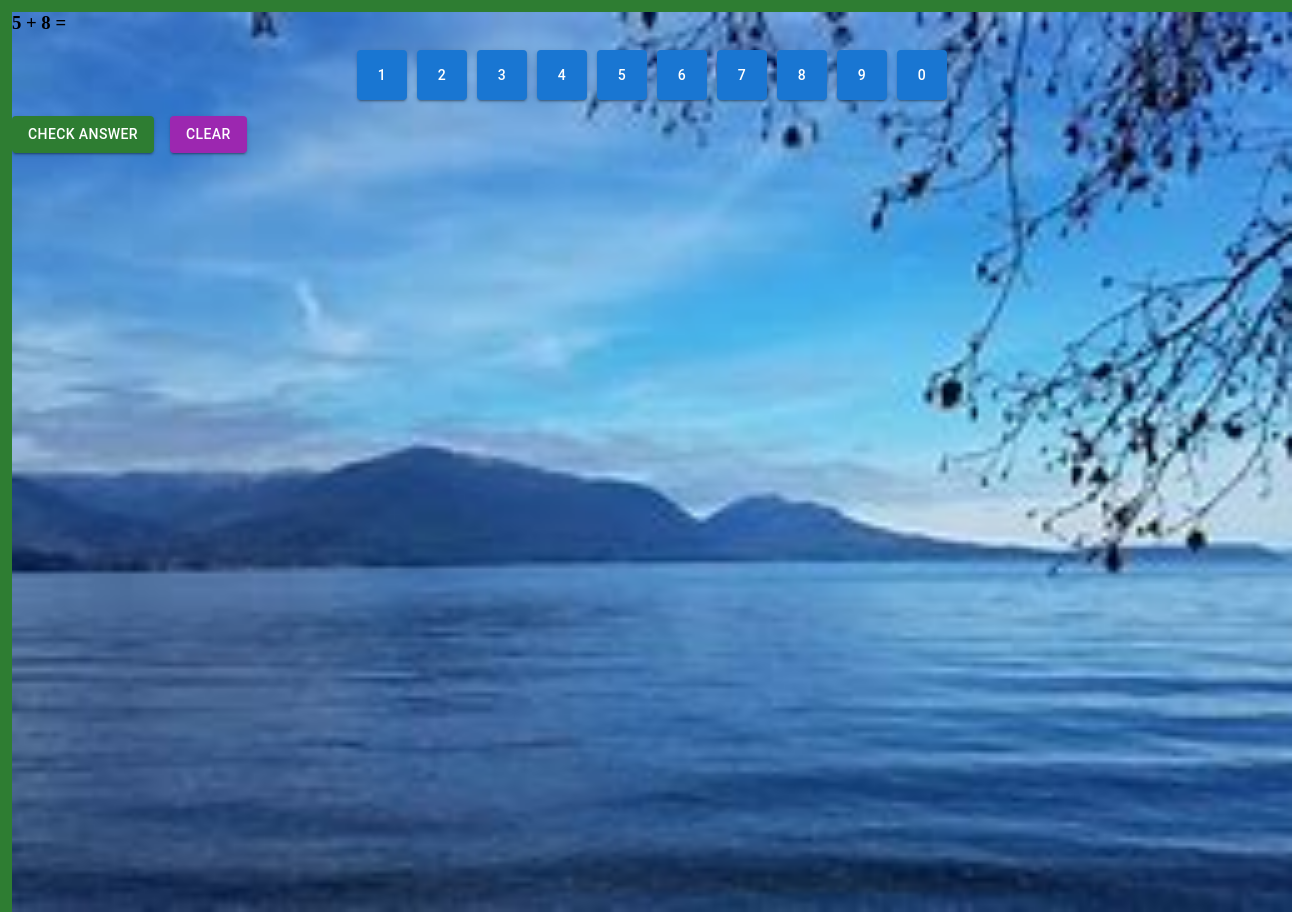
Test: Game board › When there are more questions › When the user enters an answer and presses the Check Answer button › displays that the answer is correct
Click the button "1": click(382, 75) [357,50,407,100]
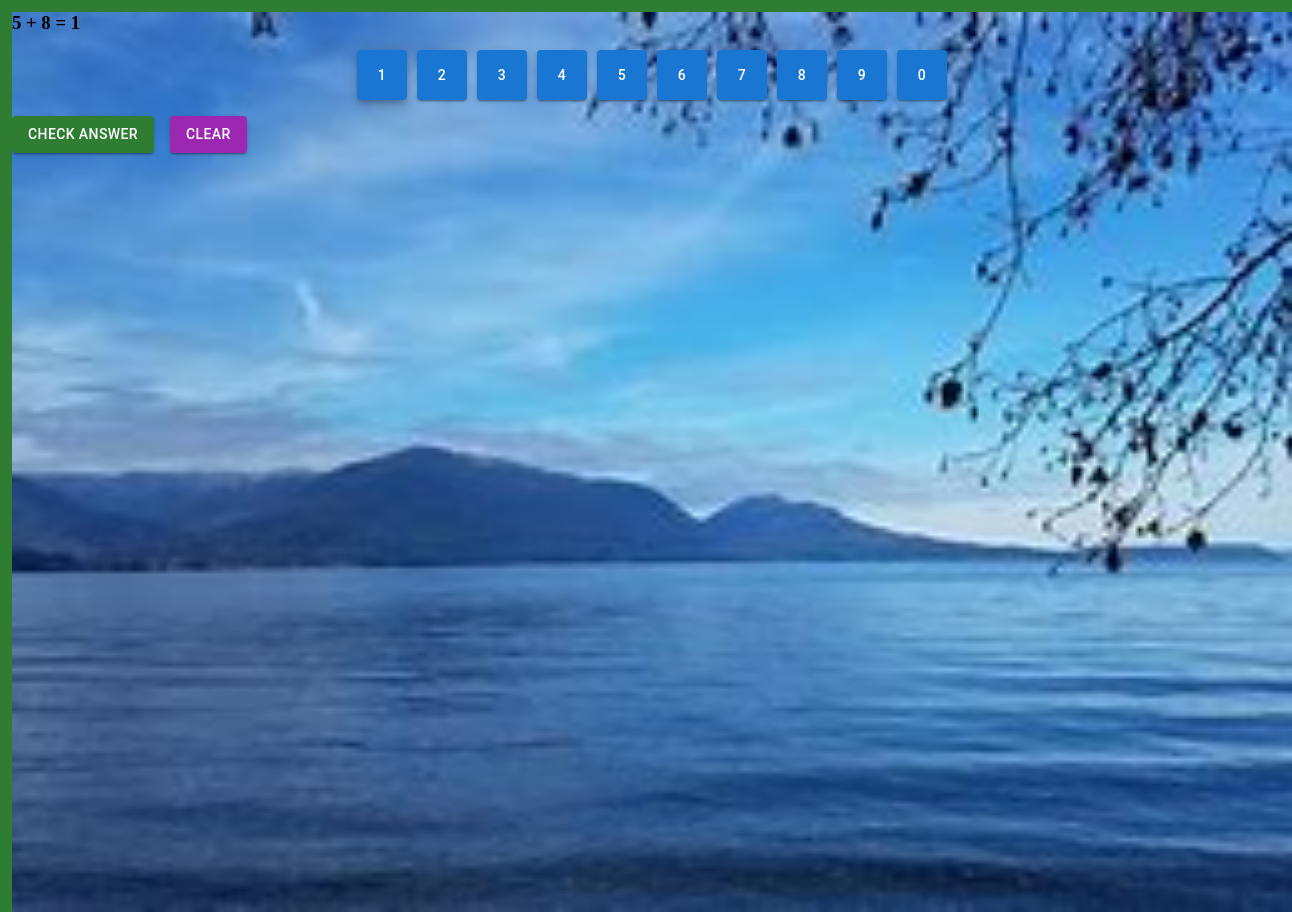
Click the button "3": click(502, 75) [477,50,527,100]
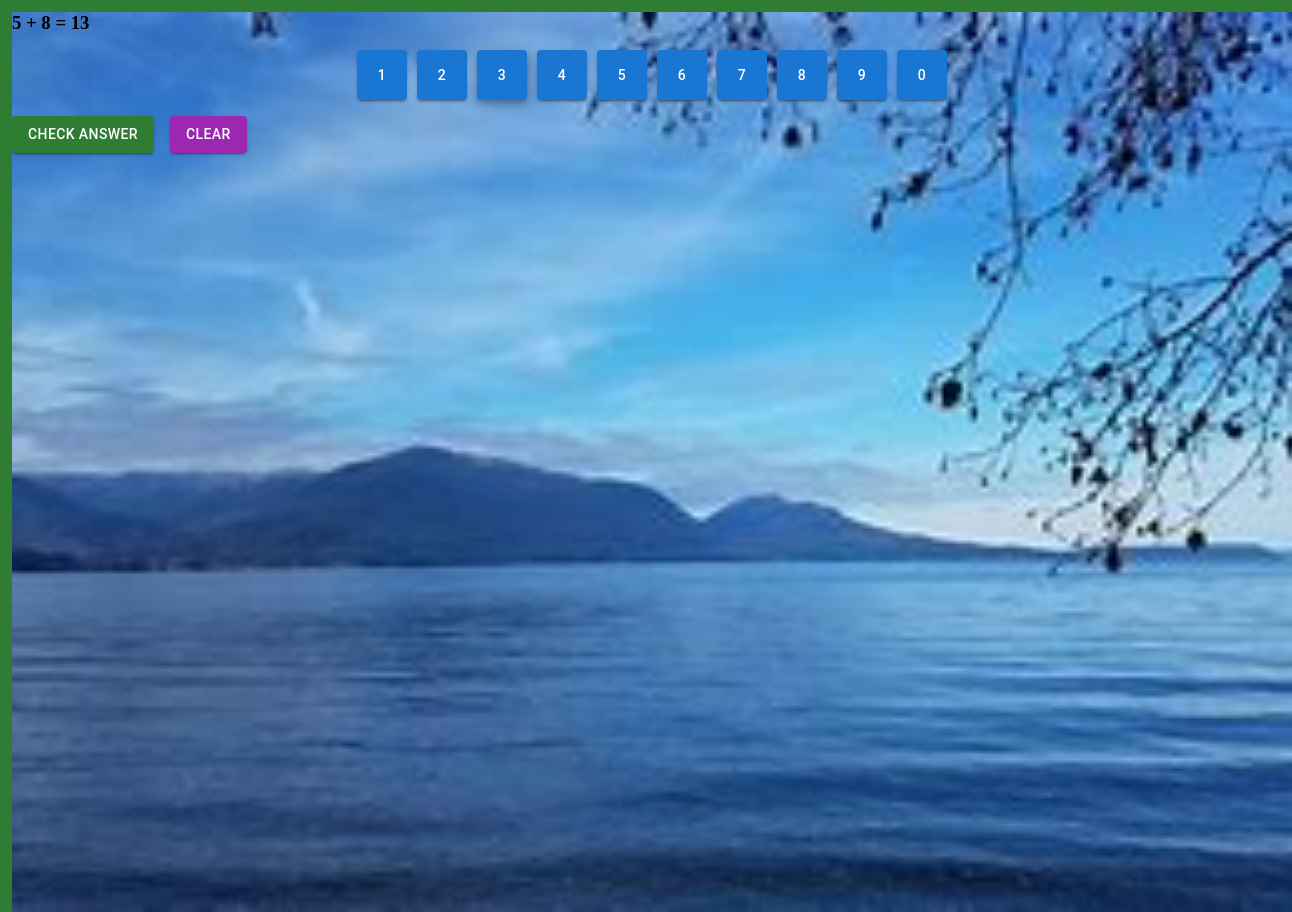
Click the button "Check Answer": click(83, 134) [12,116,154,152]
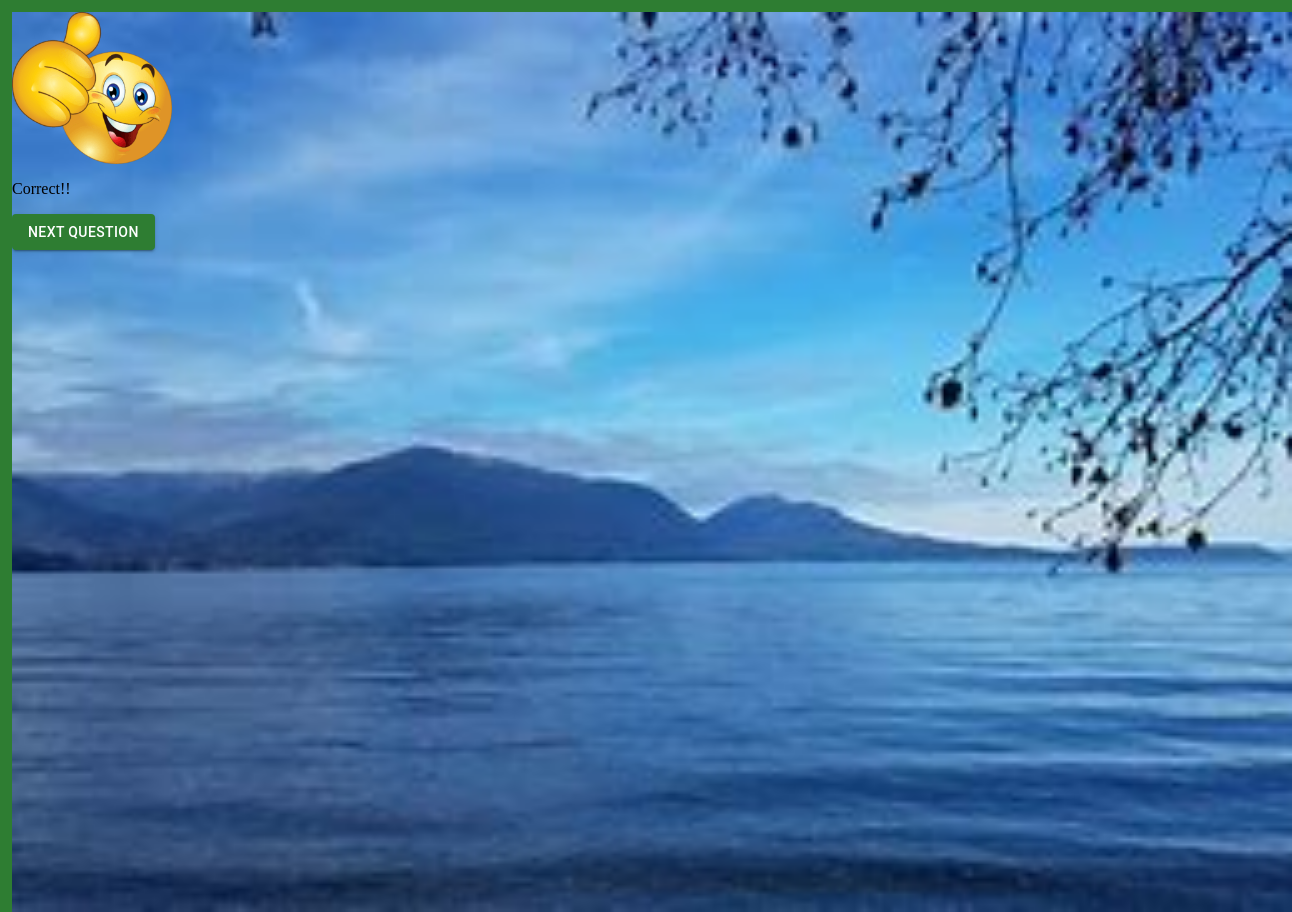
Now the text "Correct!!" is shown, box [12,180,71,197]
